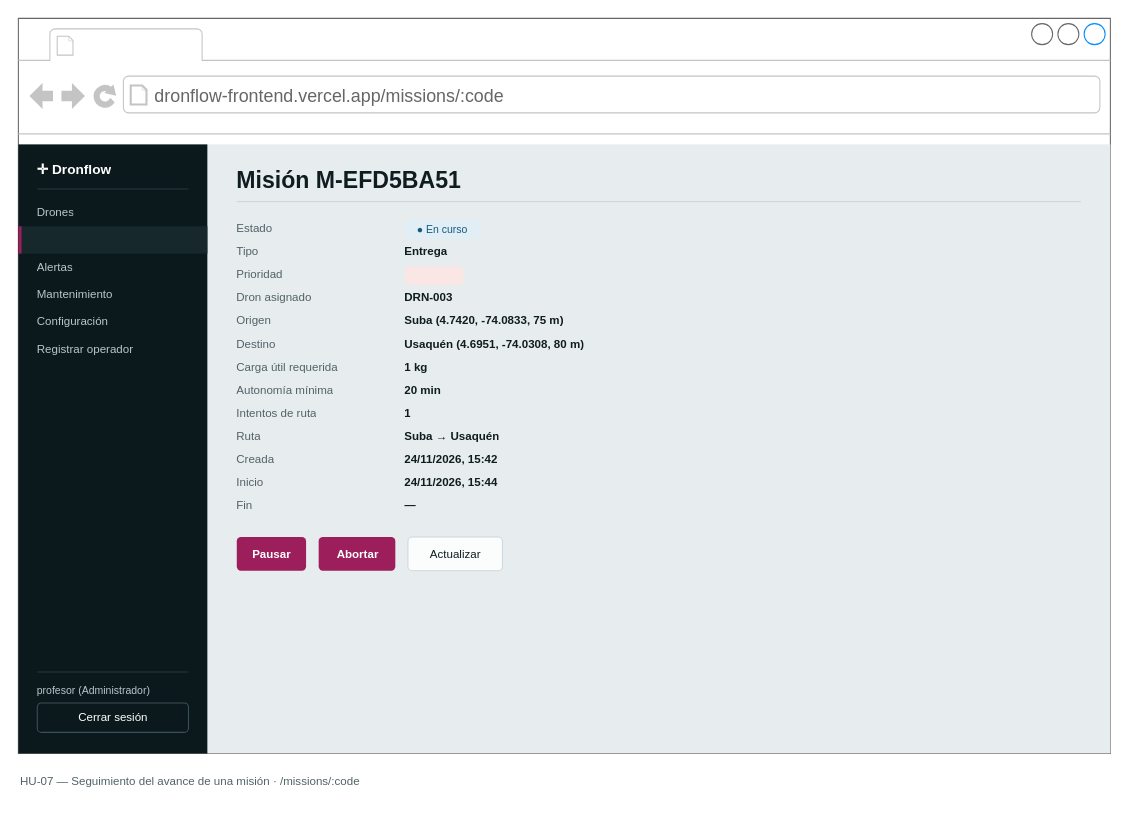
The diagram is 1129 pixels wide and 828 high, and some of its shapes have lost their labels. The centre of each missing label's shape, as x and y in pixels:
"Misiones" belongs at point (112, 239).
"● Alta" belongs at point (433, 275).
